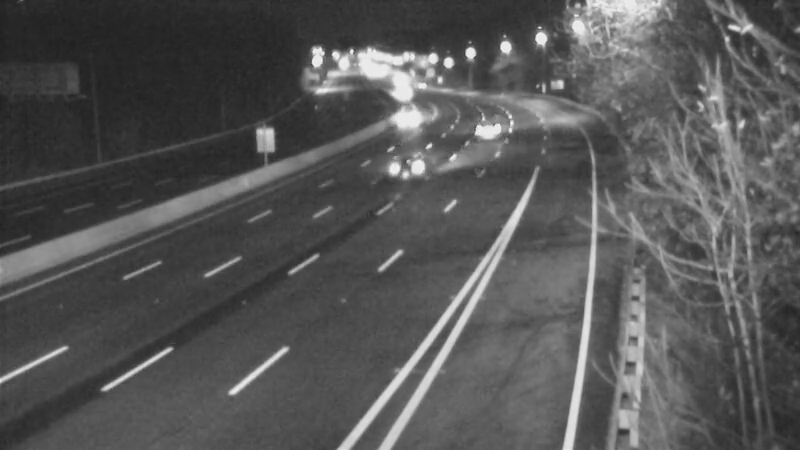vehicle: (364, 126, 444, 206), (383, 70, 433, 120), (384, 94, 434, 144), (459, 107, 509, 157)
